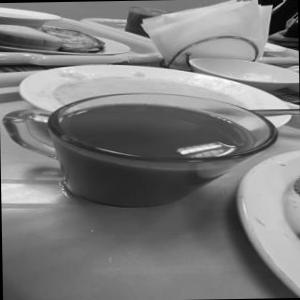coffee: (22, 72, 244, 232)
